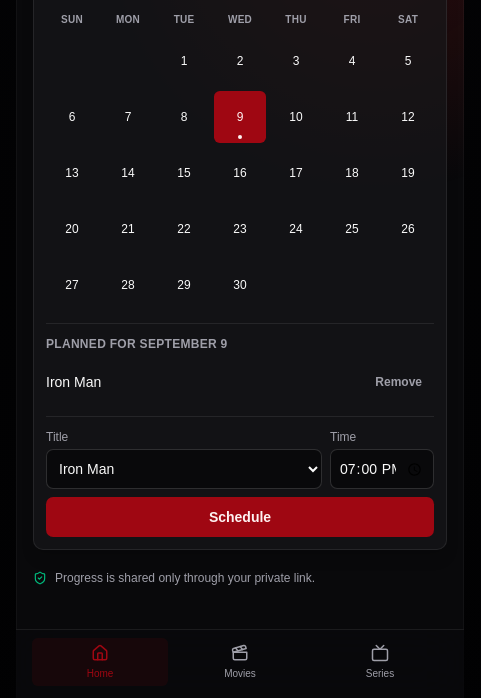
Test: save success feedback › clears a plan from the home calendar without notifying or celebrating
This screenshot has width=481, height=698.
(page scrolled)
Click the button named "remove plan for iron man" at (399, 382), box [363,360,434,404]
(page scrolled)
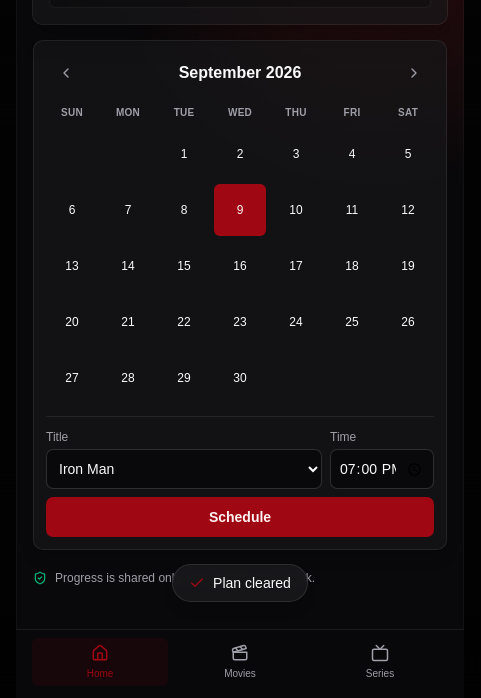
Result: the message reads "Plan cleared" at [213,575,291,591]
Result: the number of messages is 1 at [172,564,308,602]
